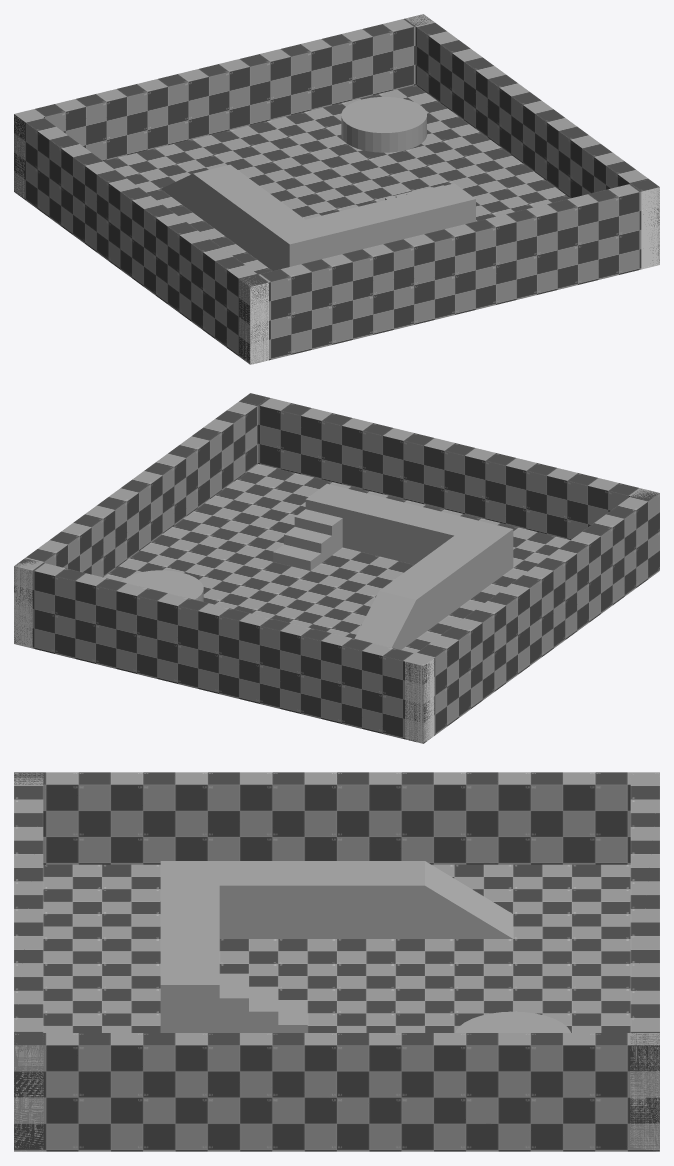
The model's file is TestLevel.gltf.
3 views of the same model, one above another, from view 1: azimuth 30°, elevation 25°; view 2: azimuth 150°, elevation 25°; view 3: azimuth 270°, elevation 25° (orthographic). The views are drawn at different scales.
Parts seen in each view (by area): view 1: Cube.002, Ground, Cube.003, Cube, Cube.001, Cube.004, Cylinder; view 2: Cube.003, Ground, Cube.002, Cube, Cube.004, Cube.001, Cylinder, Cube.005, Cube.006, Cube.007; view 3: Cube.001, Ground, Cube, Cube.004, Cube.003, Cube.002, Cylinder, Cube.005, Cube.006, Cube.007.
Part boxes in pixels (left/top/right/bottom): Cube.002: left=239, top=179, right=659, bottom=363; Ground: left=103, top=85, right=570, bottom=274; Cube.003: left=14, top=14, right=433, bottom=198; Cube: left=14, top=111, right=268, bottom=364; Cube.001: left=405, top=14, right=659, bottom=269; Cube.004: left=161, top=164, right=475, bottom=270; Cylinder: left=341, top=97, right=426, bottom=152; Cube.003: left=14, top=558, right=434, bottom=743; Ground: left=103, top=464, right=570, bottom=653; Cube.002: left=240, top=393, right=659, bottom=570; Cube: left=405, top=489, right=659, bottom=743; Cube.004: left=305, top=483, right=513, bottom=649; Cube.001: left=14, top=393, right=268, bottom=648; Cylinder: left=121, top=570, right=203, bottom=601; Cube.005: left=294, top=509, right=342, bottom=554; Cube.006: left=284, top=527, right=331, bottom=562; Cube.007: left=273, top=544, right=321, bottom=570; Cube.001: left=14, top=1033, right=659, bottom=1151; Ground: left=43, top=864, right=630, bottom=1032; Cube: left=14, top=772, right=659, bottom=864; Cube.004: left=160, top=861, right=513, bottom=1032; Cube.003: left=630, top=773, right=659, bottom=1151; Cube.002: left=14, top=773, right=43, bottom=1150; Cylinder: left=455, top=1011, right=570, bottom=1032; Cube.005: left=219, top=973, right=248, bottom=1032; Cube.006: left=249, top=986, right=278, bottom=1032; Cube.007: left=278, top=1000, right=307, bottom=1032.
Bounding box in the file's own units: 22 × 4 × 22.
Materials: 2 (1 with a texture image).
